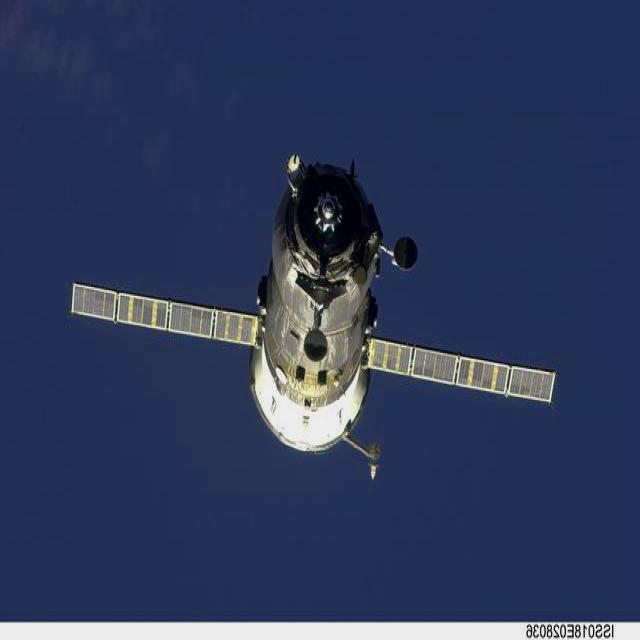medium_debris: (72, 154, 555, 477)
